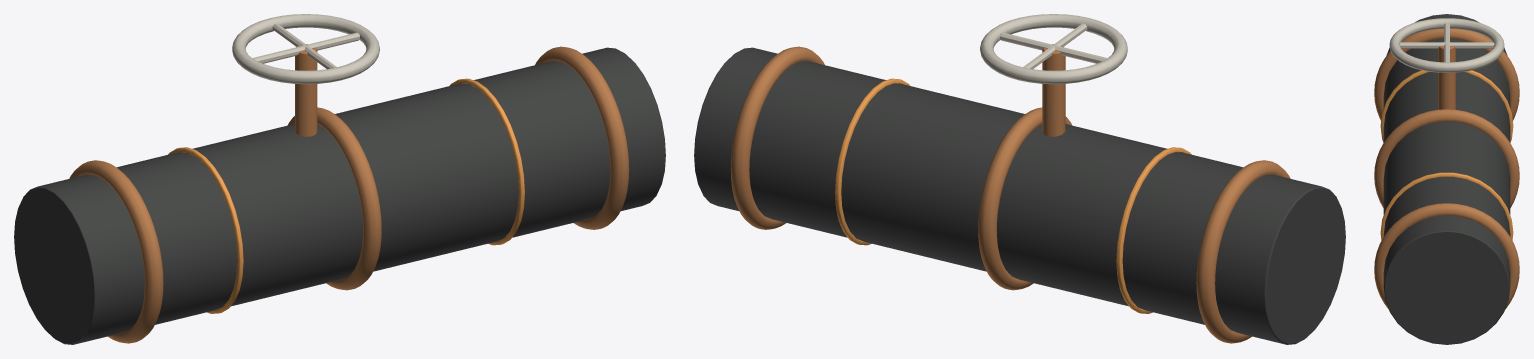
3 views of the same model, side by side, from view 1: azimuth 30°, elevation 25°; view 2: azimuth 150°, elevation 25°; view 3: azimuth 270°, elevation 25° (orthographic). The views are drawn at different scales.
Parts seen in each view (by area): view 1: SM_Pipe_MainBarrel_A; view 2: SM_Pipe_MainBarrel_A; view 3: SM_Pipe_MainBarrel_A.
Boxes of the visible parts, left/top/right/bottom form: SM_Pipe_MainBarrel_A: left=14, top=14, right=665, bottom=344; SM_Pipe_MainBarrel_A: left=694, top=14, right=1345, bottom=344; SM_Pipe_MainBarrel_A: left=1374, top=14, right=1519, bottom=344.
Bounding box in the file's own units: 59.1 × 24.28 × 16.71.
